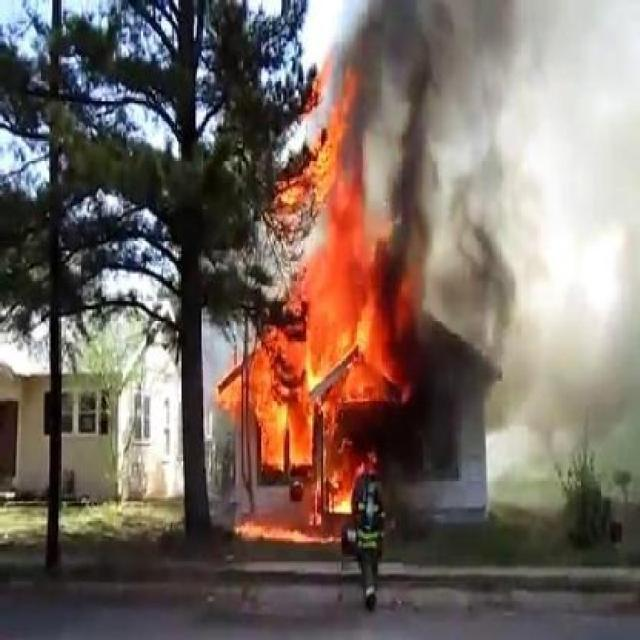Fire: (169, 127, 511, 547)
